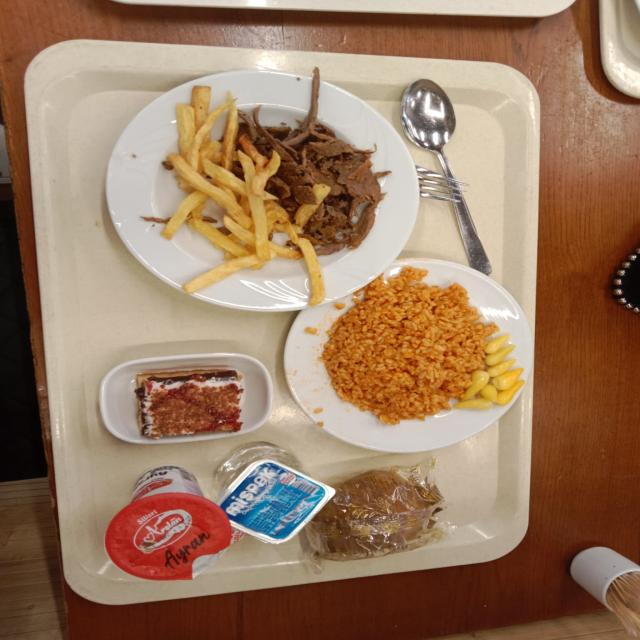ana_yemek: (104, 70, 415, 304), (281, 264, 526, 441)
yan_yemek: (98, 354, 274, 444)
